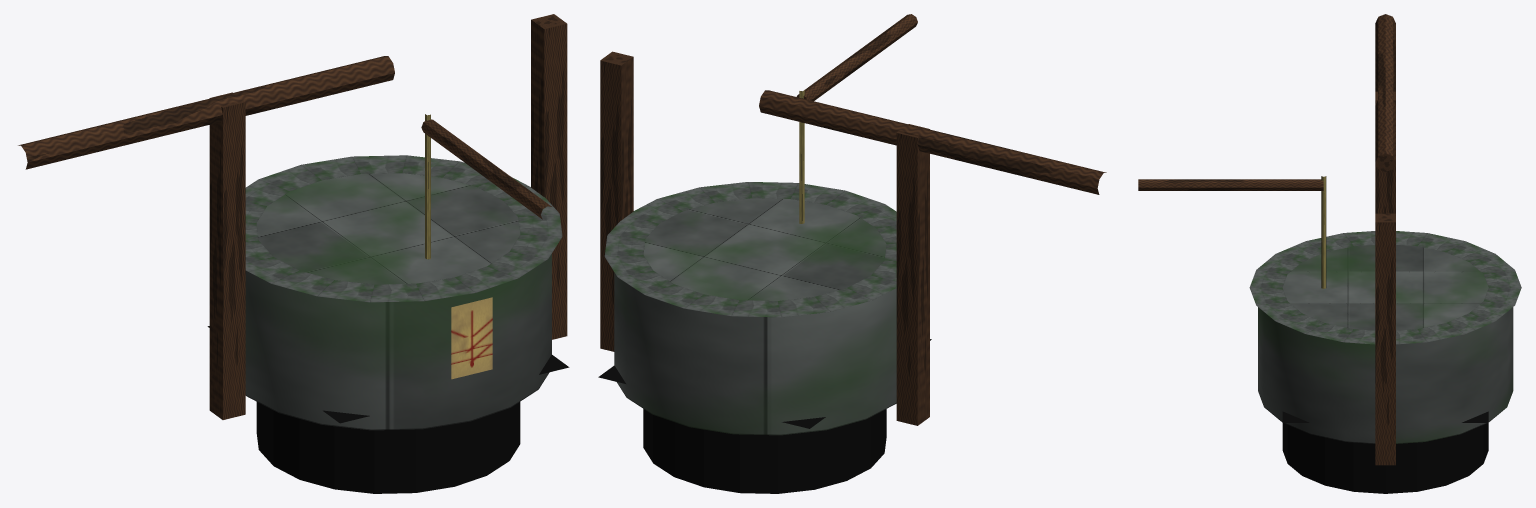
File: stone_well.glb
3 views of the same model, side by side, from view 1: azimuth 30°, elevation 25°; view 2: azimuth 150°, elevation 25°; view 3: azimuth 270°, elevation 25° (orthographic). The views are drawn at different scales.
Visible parts, largest first — view 1: Ring, Hole, Rim, Post-7, Crossbar, Post7, Talisman, Axle, Rope, HoleBottom; view 2: Ring, Hole, Rim, Post-7, Crossbar, Post7, Axle, Rope; view 3: Ring, Rim, Hole, Post7, Crossbar, Axle, Post-7, Rope.
Part boxes in pixels (<box>): Ring: <box>245,173,551,430</box>; Hole: <box>256,402,520,493</box>; Rim: <box>245,155,562,302</box>; Post-7: <box>209,92,245,419</box>; Crossbar: <box>18,56,394,169</box>; Post7: <box>531,14,567,339</box>; Talisman: <box>451,297,492,379</box>; Axle: <box>421,119,551,219</box>; Rope: <box>425,114,430,259</box>; HoleBottom: <box>207,326,569,423</box>; Ring: <box>614,198,896,435</box>; Hole: <box>643,409,886,493</box>; Rim: <box>604,182,896,317</box>; Post-7: <box>896,124,929,425</box>; Crossbar: <box>759,90,1106,194</box>; Post7: <box>600,51,633,351</box>; Axle: <box>796,14,917,101</box>; Rope: <box>799,90,804,223</box>; Ring: <box>1258,245,1513,443</box>; Rim: <box>1249,231,1521,344</box>; Hole: <box>1282,423,1488,493</box>; Post7: <box>1375,213,1395,465</box>; Crossbar: <box>1375,14,1395,171</box>; Axle: <box>1138,179,1323,190</box>; Post-7: <box>1375,91,1395,213</box>; Rope: <box>1321,176,1326,288</box>.
Size of what is drawn, in the model's own units: 2.35 by 1.59 by 1.86.
Materials: 5 (5 with a texture image).
